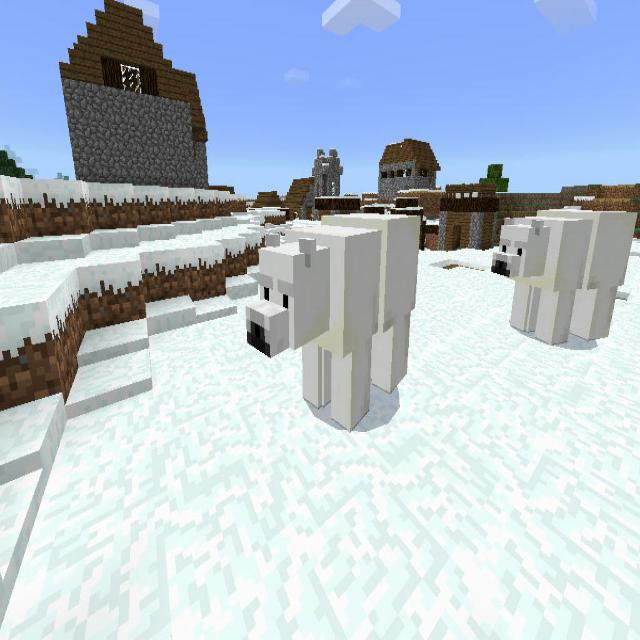Polar Bear: (244, 207, 424, 437), (491, 205, 638, 354)
